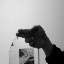h: (15, 24, 50, 49)
